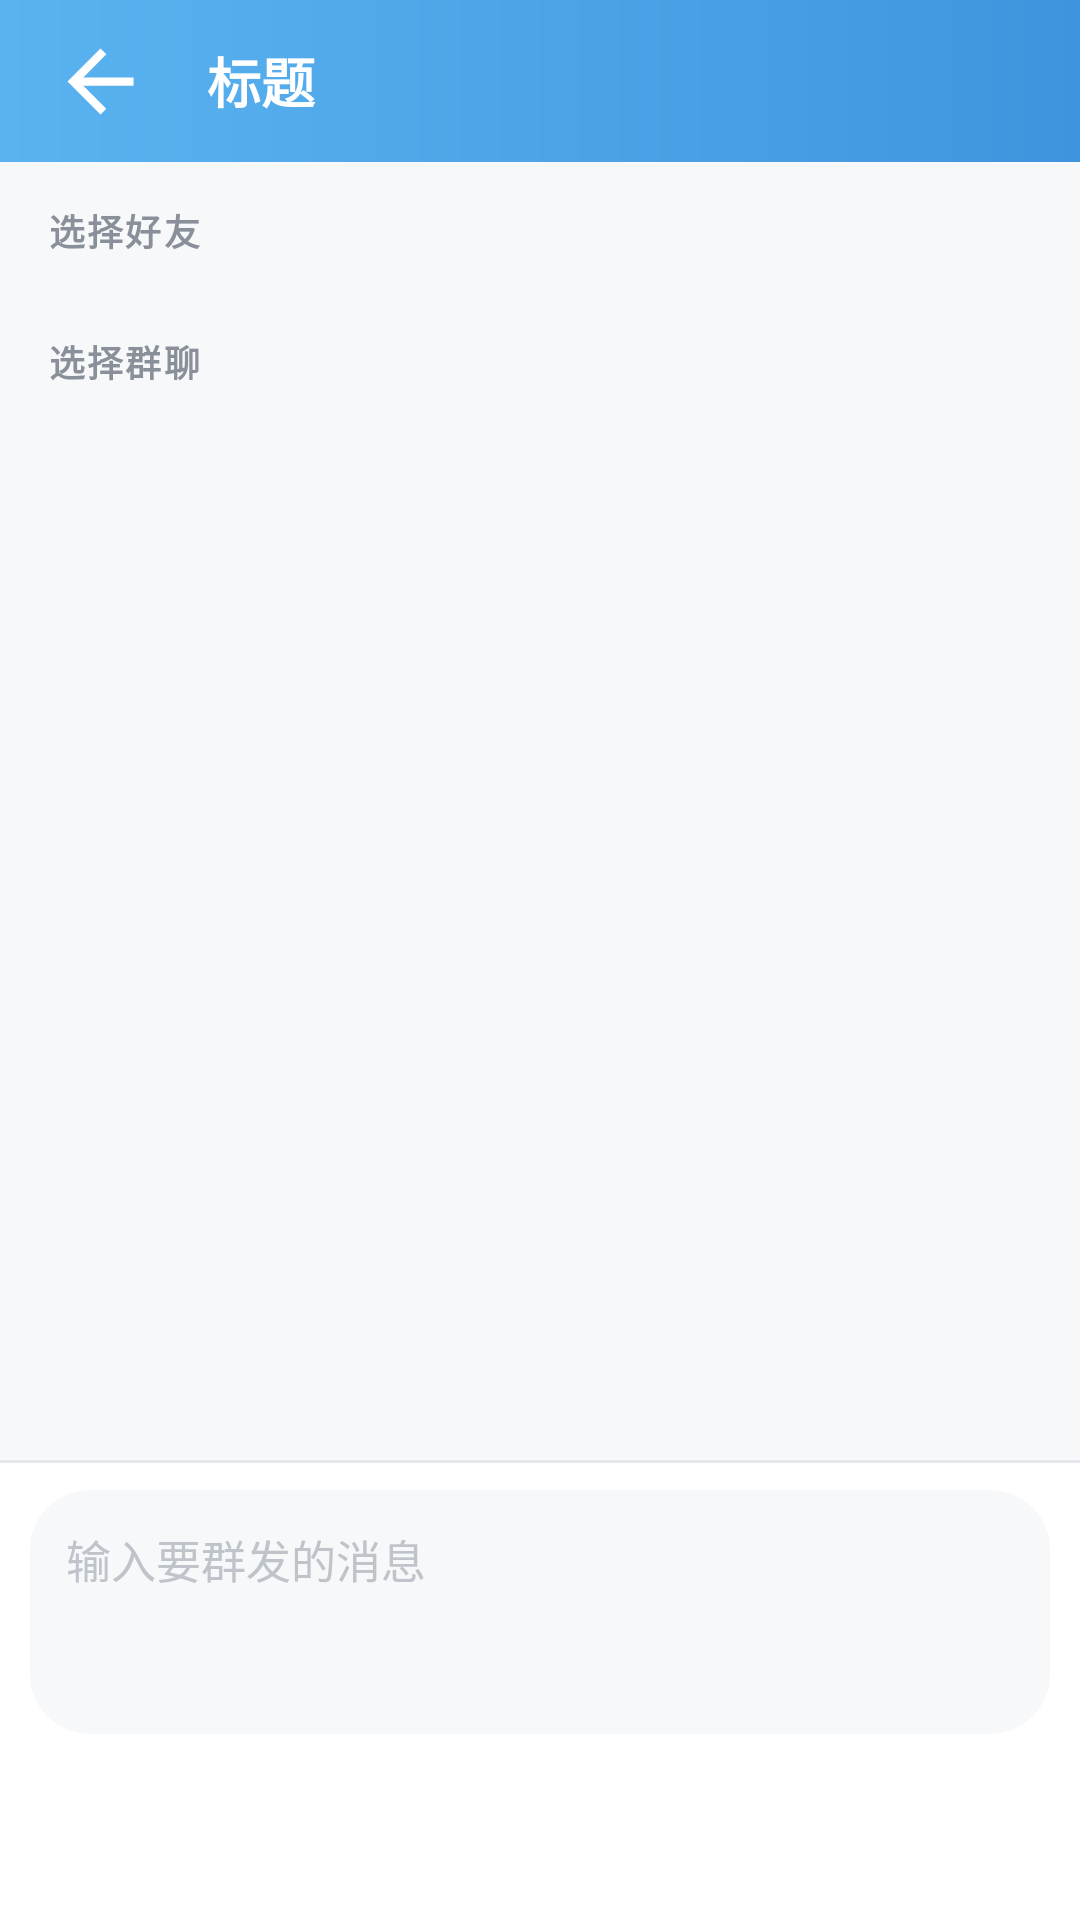

Icons on this 1080 x 1920 Android screen, each with the point to tap as (x=x, y=y):
返回: (x=100, y=81)
